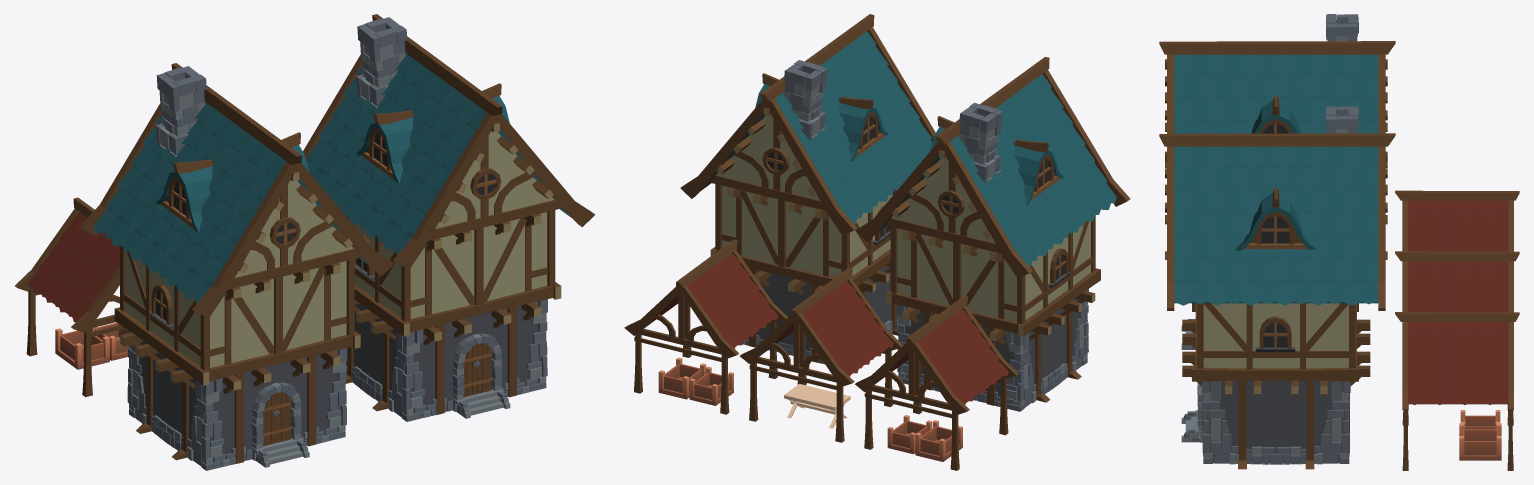
The model's file is london_bld_customs.glb.
3 views of the same model, side by side, from view 1: azimuth 30°, elevation 25°; view 2: azimuth 150°, elevation 25°; view 3: azimuth 270°, elevation 25° (orthographic). The views are drawn at different scales.
Parts seen in each view (by area): view 1: House_1 (×2), Gazebo, crate (×2); view 2: House_1 (×2), Gazebo (×3), crate (×4), tableCross(Clone); view 3: House_1 (×2), Gazebo (×3), crate (×2).
Part boxes in pixels (bbox=[...]): House_1 (×2): bbox=[80, 14, 595, 470]; Gazebo: bbox=[15, 197, 125, 397]; crate (×2): bbox=[55, 322, 128, 369]; House_1 (×2): bbox=[680, 14, 1130, 411]; Gazebo (×3): bbox=[624, 239, 1018, 470]; crate (×4): bbox=[658, 357, 962, 461]; tableCross(Clone): bbox=[784, 384, 850, 428]; House_1 (×2): bbox=[1159, 14, 1395, 469]; Gazebo (×3): bbox=[1395, 190, 1519, 470]; crate (×2): bbox=[1459, 410, 1501, 460].
Size of the model in its own units: 21.52 by 16.95 by 17.84.
Materials: 13 (1 with a texture image).
